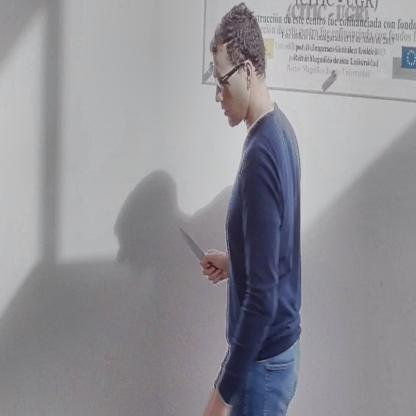knife: (176, 221, 218, 277)
